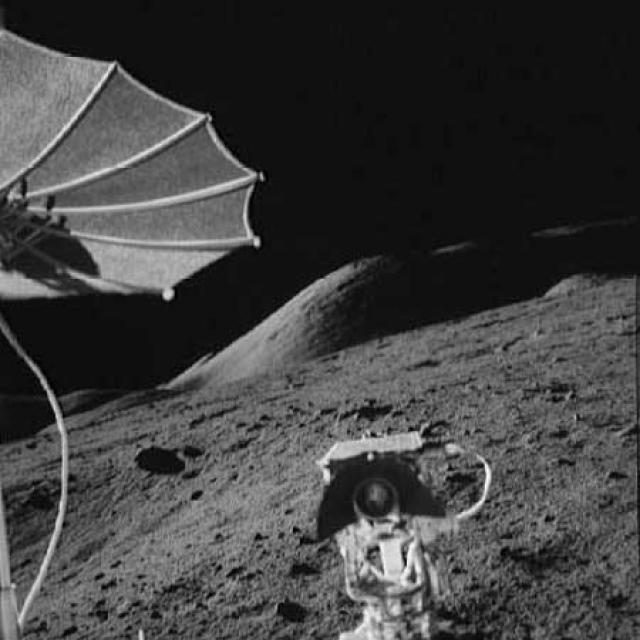artifact: (0, 27, 287, 318), (280, 419, 511, 639), (0, 324, 72, 638)
rock: (124, 438, 191, 482), (546, 268, 615, 301)
